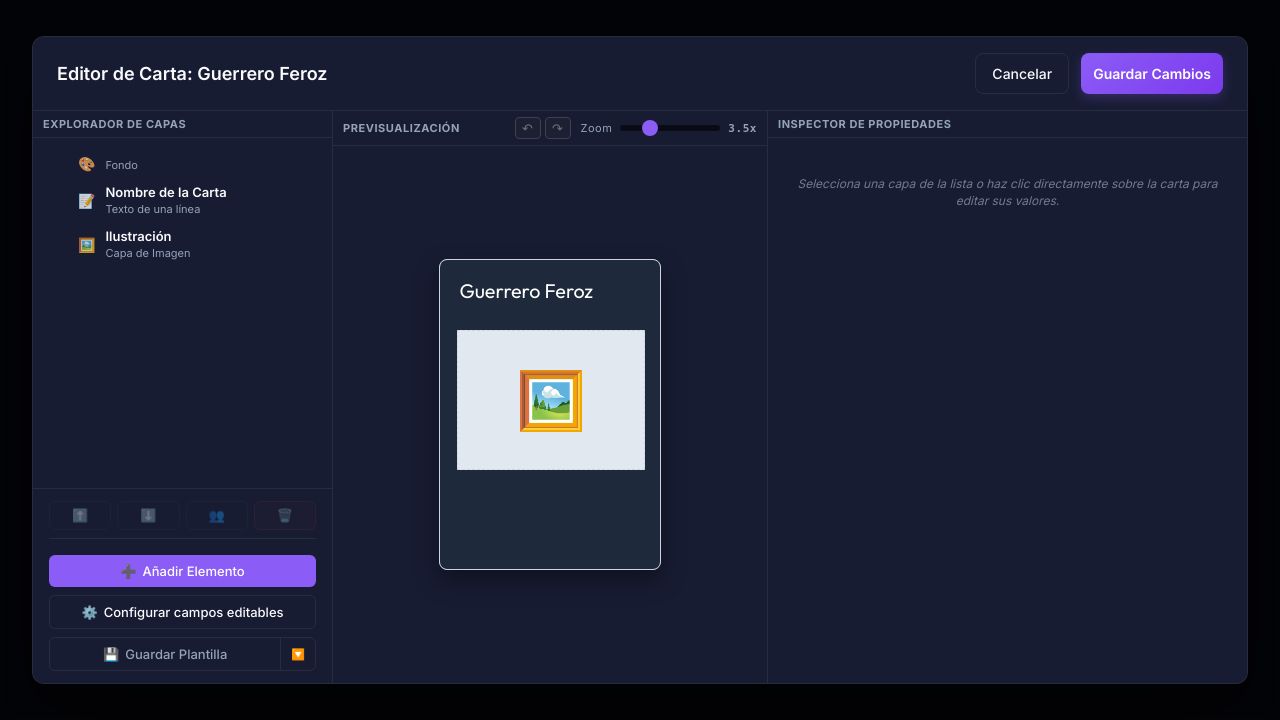
SRS-070: Unificación de Campos en el Inspector del Editor de Cartas › RF-2: renderiza un único bloque de recurso de imagen sin duplicados de plantilla
Note: Seleccionar la capa de imagen en el árbol de capas
Click the text "Ilustración" at (138, 236), box [106,228,172,244]
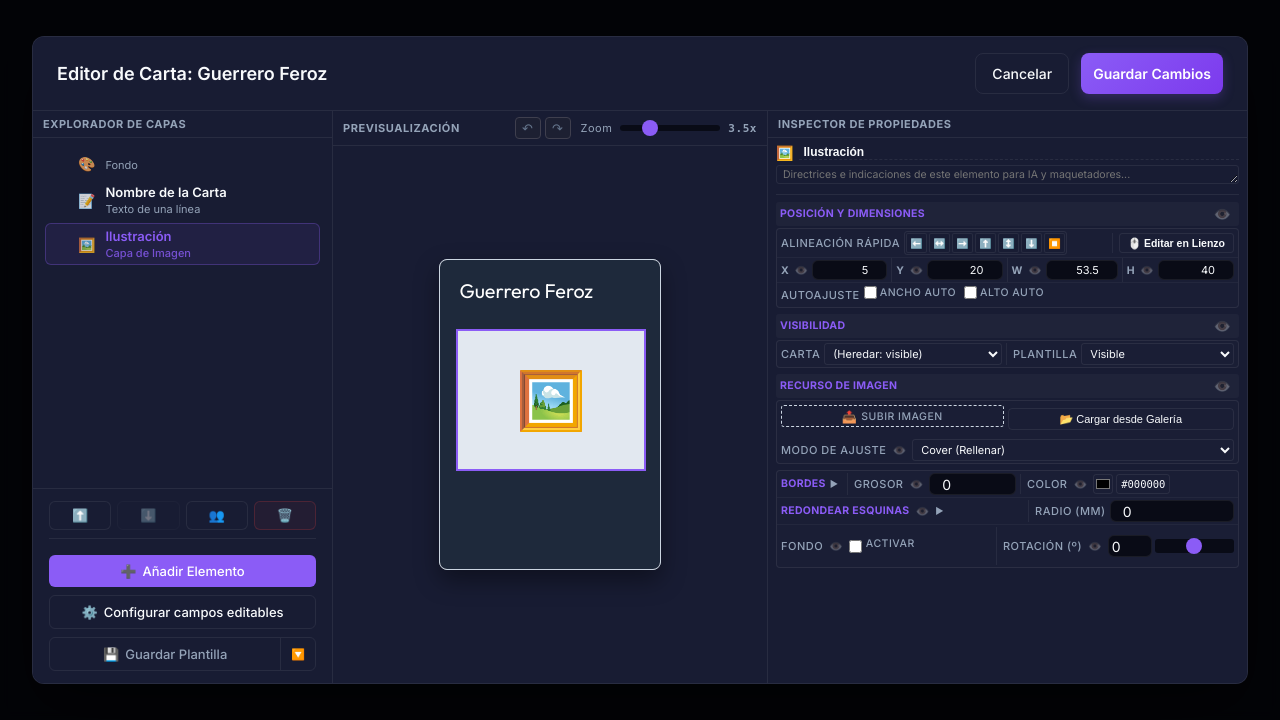
Now the heading "Recurso de Imagen" is shown, box [780,380,897,392]
Now the number of buttons "📂 Cargar desde Galería" is 1, box [1008,408,1234,430]
Now the text "Modo de Ajuste" is shown, box [781,444,886,456]
